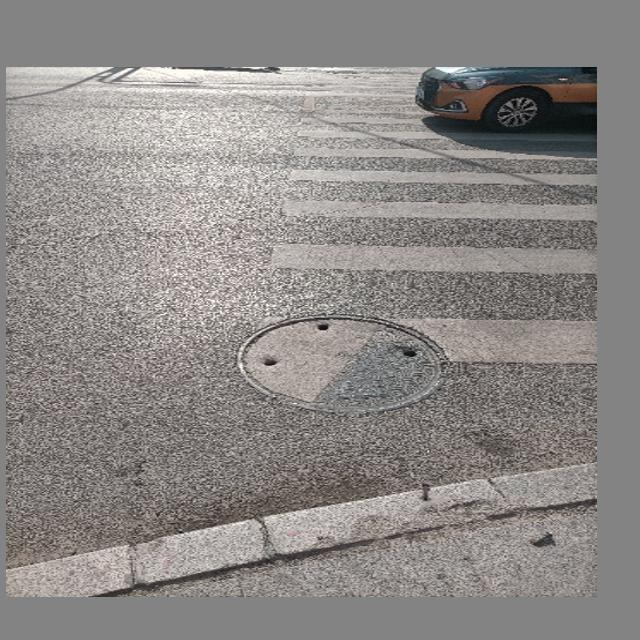broke: (235, 314, 449, 411)
